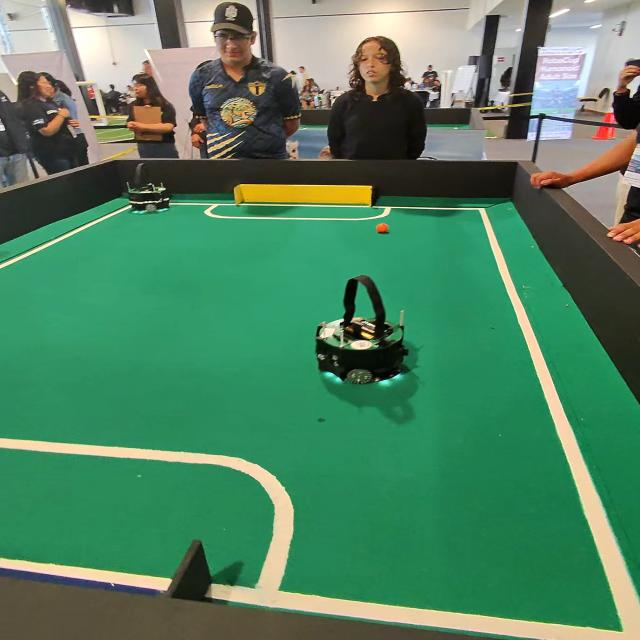Robot: (306, 265, 440, 411), (112, 161, 186, 219)
pelota: (368, 218, 400, 245)
